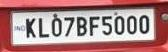0: (125, 13, 136, 34), (50, 16, 61, 36), (138, 14, 149, 34), (113, 15, 124, 34)
5: (100, 14, 112, 35)
7: (62, 16, 75, 36)
B: (75, 15, 87, 37)
F: (88, 15, 99, 35)
K: (24, 16, 36, 38)
L: (37, 16, 48, 37)
